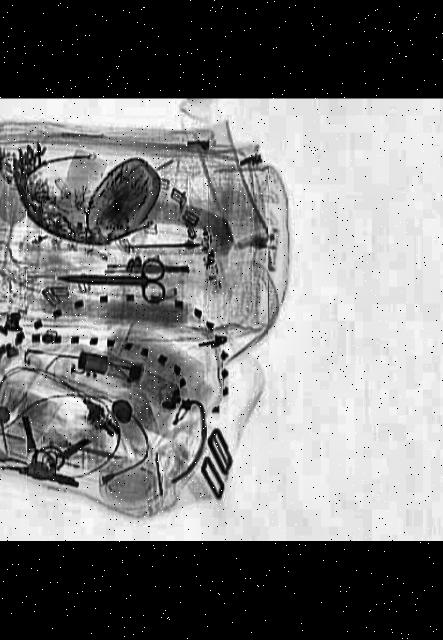Scissors: (55, 256, 164, 300)
